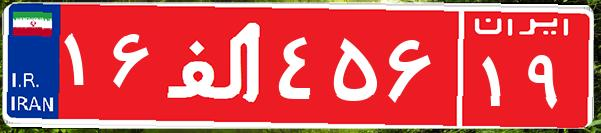1: (57, 26, 110, 107), (475, 38, 525, 113)
4: (273, 28, 330, 110)
5: (330, 28, 385, 110)
6: (385, 28, 445, 110), (110, 28, 158, 105)
9: (525, 38, 570, 115)
الف: (158, 15, 273, 115)
